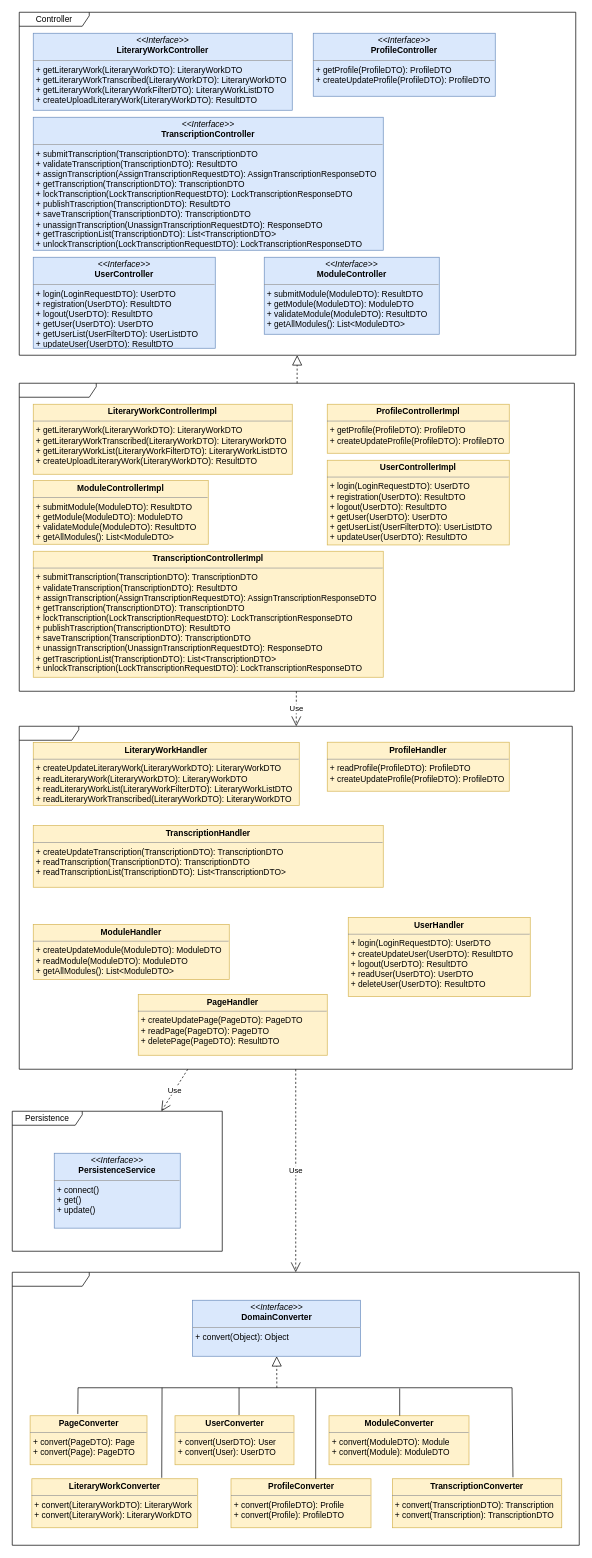
Image size: 592x1558. Some labels were removed from this diagram. The box of each missing label's shape, as (x1, y1, x2, y2) in pixels:
ControllerImpl: (19, 383, 574, 691)
Converter: (12, 1272, 579, 1545)
Handler: (19, 726, 572, 1069)
